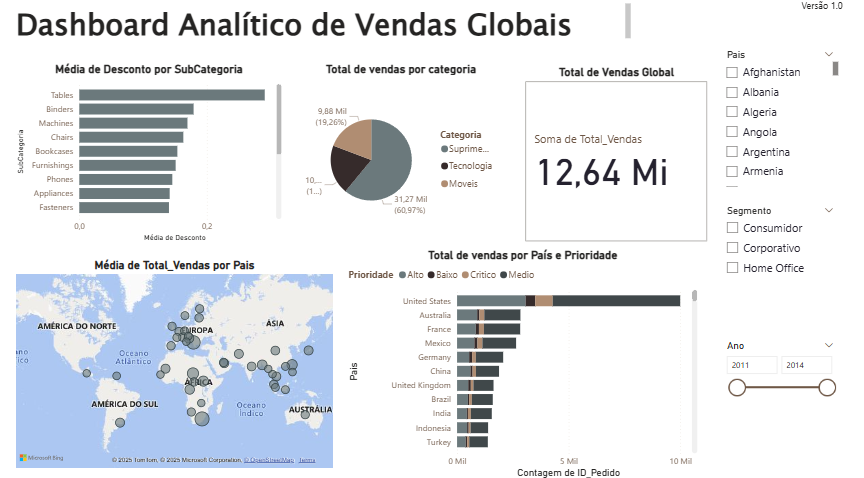

Layout of this report page (visuals, bound fields, positions):
{"tool":"powerbi","page":{"name":"Página 1","canvas":[1280,720],"ordinal":0},"visuals":[{"type":"cardVisual","title":"Total de Vendas Global","fields":{"Data":["Sum(dataset.Total_Vendas)"]},"box":[771.2,109.8,276.6,263.4],"z":0},{"type":"pieChart","title":"Total de vendas por categoria","fields":{"Category":["dataset.Categoria"],"Y":["CountNonNull(dataset.ID_Pedido)"]},"box":[444.9,105.4,298.5,267.8],"z":1},{"type":"barChart","title":"Total de vendas por País e Prioridade","fields":{"Category":["dataset.Pais"],"Y":["CountNonNull(dataset.ID_Pedido)"],"Series":["dataset.Prioridade"]},"box":[512.8,377.3,520.7,342.7],"z":2},{"type":"clusteredBarChart","fields":{"Category":["dataset.SubCategoria"],"Y":["Avg(dataset.Desconto)"]},"box":[26.3,105.4,398,267.8],"z":3},{"type":"map","fields":{"Category":["dataset.Pais"],"Size":["Avg(dataset.Total_Vendas)"]},"box":[26.3,392.2,472.7,311.7],"z":4},{"type":"slicer","fields":{"Values":["dataset.Pais"]},"box":[1058,82,181.5,210.7],"z":5},{"type":"slicer","fields":{"Values":["dataset.Segmento"]},"box":[1058,310.2,181.5,187.3],"z":6},{"type":"slicer","fields":{"Values":["dataset.Data_Pedido.Variation.Hierarquia de datas.Ano"]},"box":[1058,507.8,181.5,196.1],"z":7},{"type":"textbox","box":[26.6,14.6,908.6,67.7],"z":8},{"type":"textbox","box":[1175.1,8.8,105.4,39.5],"z":9}]}

Visuals, with their boxes in screenshot pixels (x1, y1, x2, y2), scaled from the page's 1280x720 canvas onto the 864x478 screenshot:
"Total de Vendas Global" cardVisual: {"x1": 521, "y1": 73, "x2": 707, "y2": 248}
"Total de vendas por categoria" pieChart: {"x1": 300, "y1": 70, "x2": 502, "y2": 248}
"Total de vendas por País e Prioridade" barChart: {"x1": 346, "y1": 250, "x2": 698, "y2": 477}
clusteredBarChart - dataset.SubCategoria x Avg(dataset.Desconto): {"x1": 18, "y1": 70, "x2": 286, "y2": 248}
map - dataset.Pais x Avg(dataset.Total_Vendas): {"x1": 18, "y1": 260, "x2": 337, "y2": 467}
slicer - dataset.Pais: {"x1": 714, "y1": 54, "x2": 837, "y2": 194}
slicer - dataset.Segmento: {"x1": 714, "y1": 206, "x2": 837, "y2": 330}
slicer - dataset.Data_Pedido.Variation.Hierarquia de datas.Ano: {"x1": 714, "y1": 337, "x2": 837, "y2": 467}
textbox: {"x1": 18, "y1": 10, "x2": 631, "y2": 55}
textbox: {"x1": 793, "y1": 6, "x2": 863, "y2": 32}
